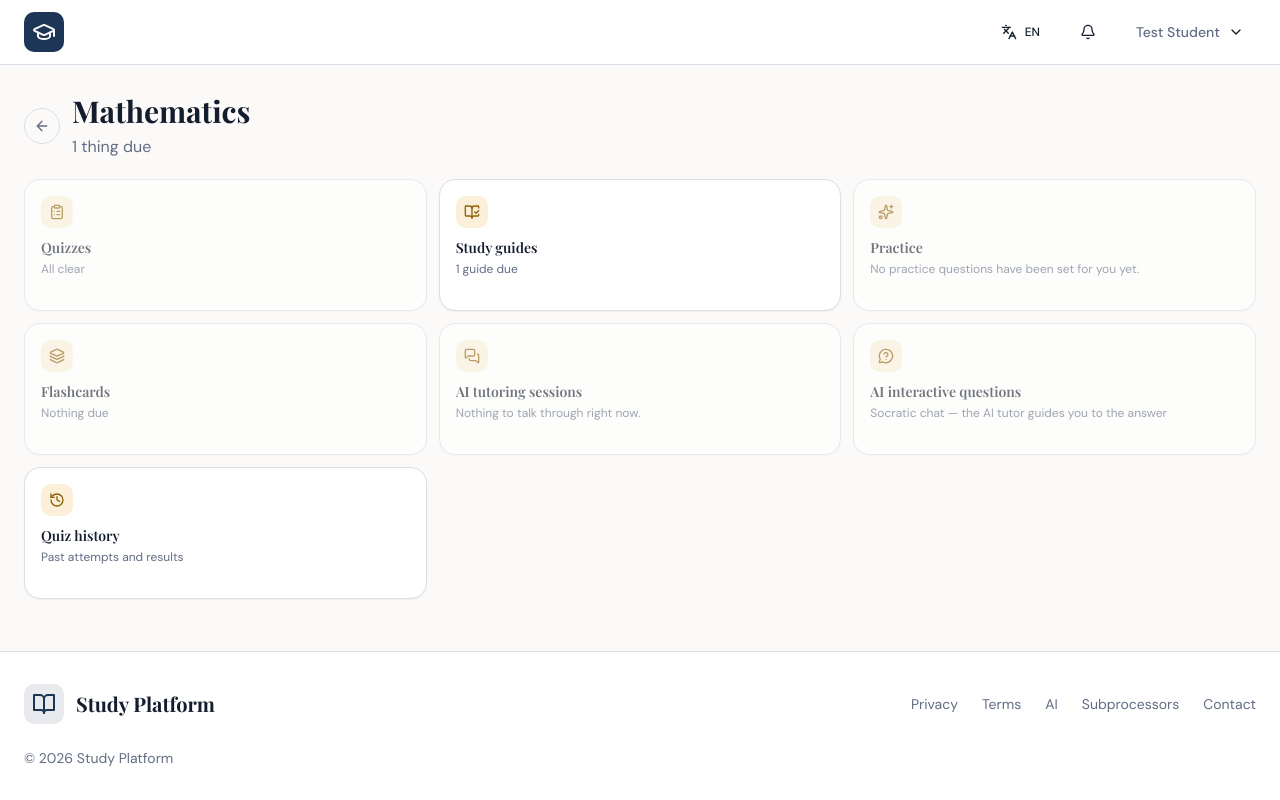
Test: StudentCourse study guides › renders an assigned guide in the list behind the launcher tile
Click the button with test id "launcher-guides" at (472, 212), box left=439, top=179, right=841, bottom=311
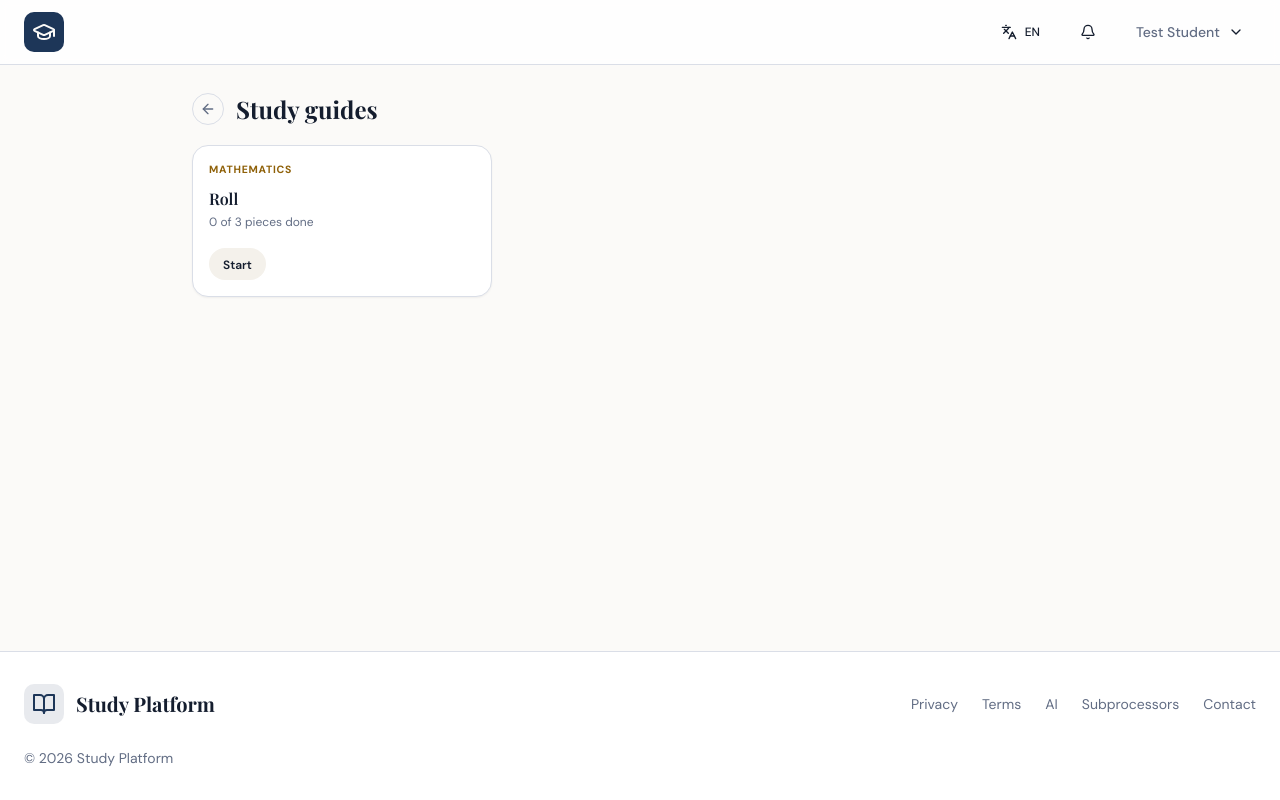
Now the heading "Roll" is shown, box left=209, top=188, right=238, bottom=209
Now the text "0 of 3 pieces done" is shown, box left=209, top=214, right=314, bottom=230
